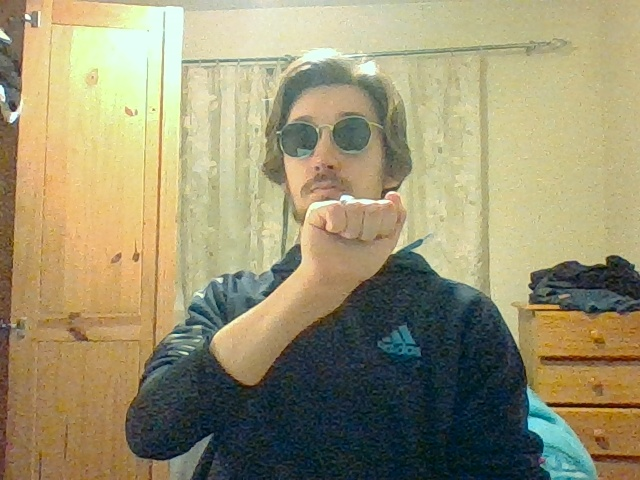your: (299, 191, 407, 295)
